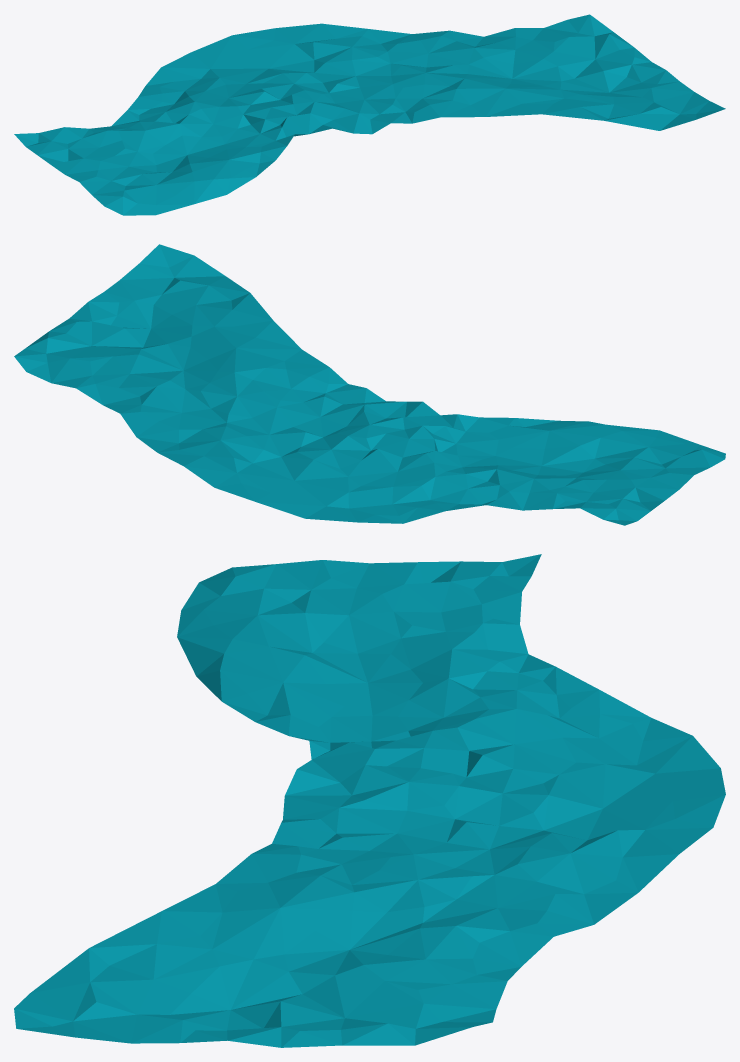
The model's file is riverlowpolyeffect2.fbx.
3 views of the same model, one above another, from view 1: azimuth 30°, elevation 25°; view 2: azimuth 150°, elevation 25°; view 3: azimuth 270°, elevation 25° (orthographic). The views are drawn at different scales.
Parts seen in each view (by area): view 1: RiverTest2; view 2: RiverTest2; view 3: RiverTest2.
Boxes of the visible parts, <box> form: RiverTest2: <box>14,14,725,215</box>; RiverTest2: <box>14,244,725,525</box>; RiverTest2: <box>14,554,725,1047</box>.
Bounding box in the file's own units: 29135 × 856 × 18403.
